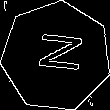N_W: (29, 34, 84, 79)
